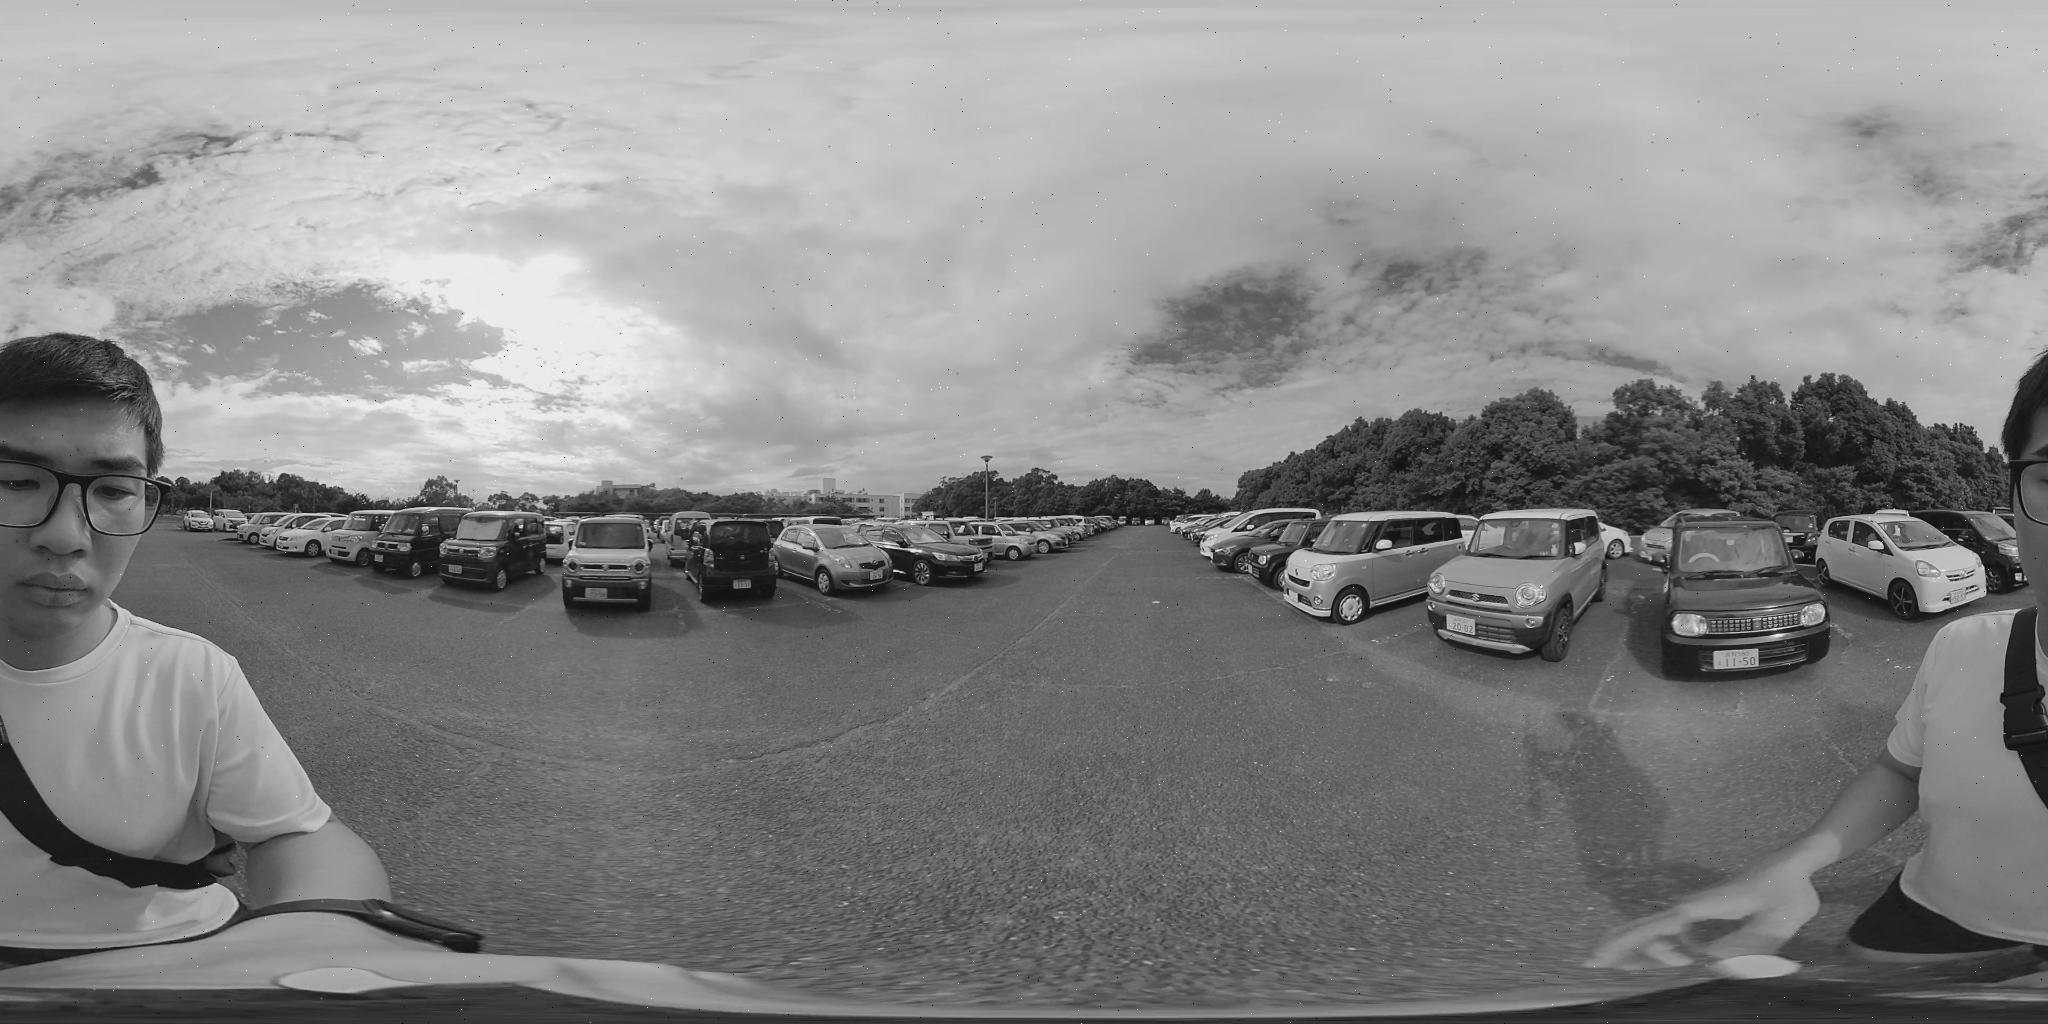car: (1655, 522, 1831, 683), (1255, 513, 1481, 626), (1810, 512, 1998, 615), (1650, 512, 1789, 580), (769, 522, 899, 592), (564, 516, 656, 605), (435, 508, 546, 580), (1209, 511, 1327, 576), (874, 525, 1000, 585), (690, 522, 772, 600), (344, 512, 452, 569), (256, 512, 374, 554), (970, 526, 1042, 559), (180, 508, 230, 530)
